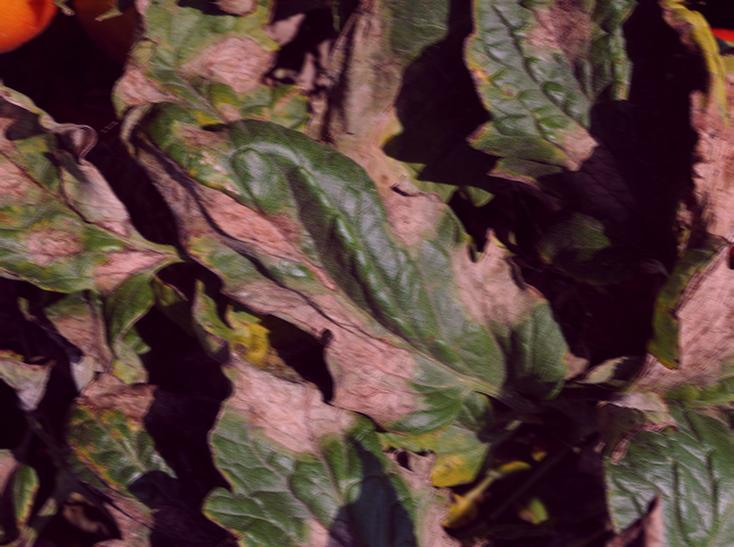Tomato leaf late blight: (125, 79, 582, 424), (191, 341, 487, 547), (452, 0, 692, 245), (0, 0, 182, 307), (597, 170, 734, 465), (571, 404, 734, 547)
